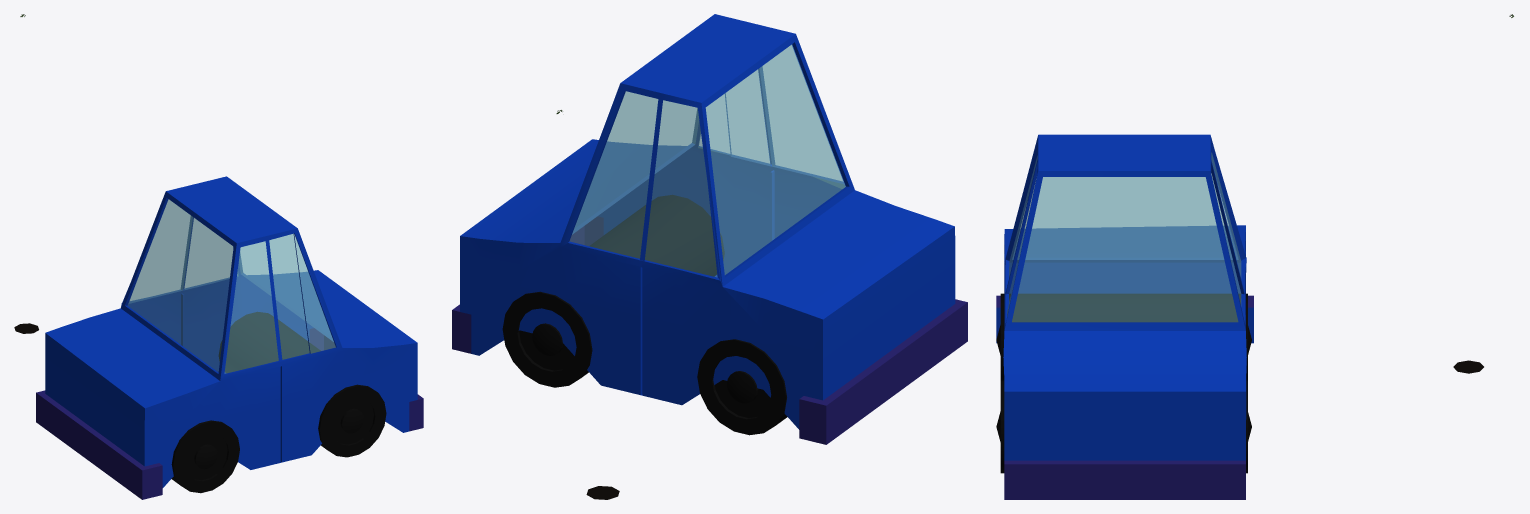
The model's file is car2.FBX.
3 views of the same model, side by side, from view 1: azimuth 30°, elevation 25°; view 2: azimuth 150°, elevation 25°; view 3: azimuth 270°, elevation 25° (orthographic). The views are drawn at different scales.
Parts seen in each view (by area): view 1: Box001, Cylinder003, Cylinder004; view 2: Box001, Cylinder003, Cylinder004; view 3: Box001, Cylinder004, Cylinder003.
Boxes of the visible parts, bbox=[...] form: Box001: bbox=[36, 176, 423, 499]; Cylinder003: bbox=[218, 312, 386, 457]; Cylinder004: bbox=[171, 420, 239, 493]; Box001: bbox=[452, 14, 967, 444]; Cylinder003: bbox=[502, 195, 724, 387]; Cylinder004: bbox=[697, 339, 787, 435]; Box001: bbox=[996, 134, 1253, 499]; Cylinder004: bbox=[996, 293, 1251, 380]; Cylinder003: bbox=[996, 380, 1251, 473].
Size of the model in its own units: 4.78 by 6.22 by 5.07.
